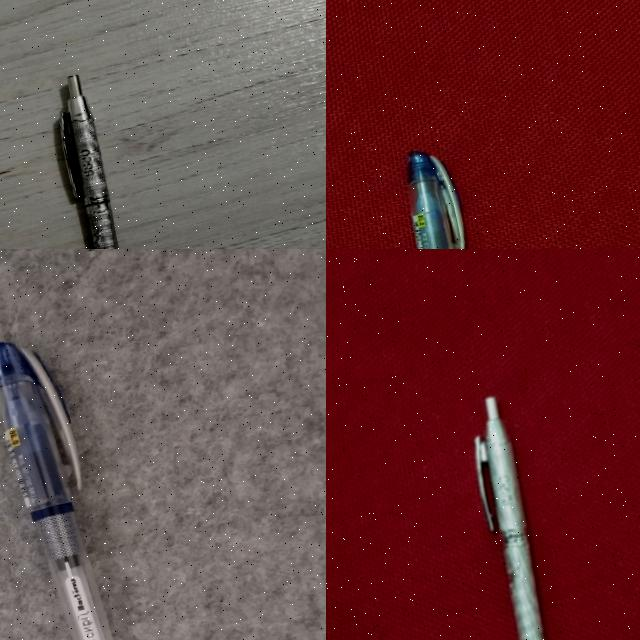pen: (0, 343, 110, 639), (407, 152, 464, 248)
signature pen: (474, 395, 547, 640), (61, 76, 118, 248)
